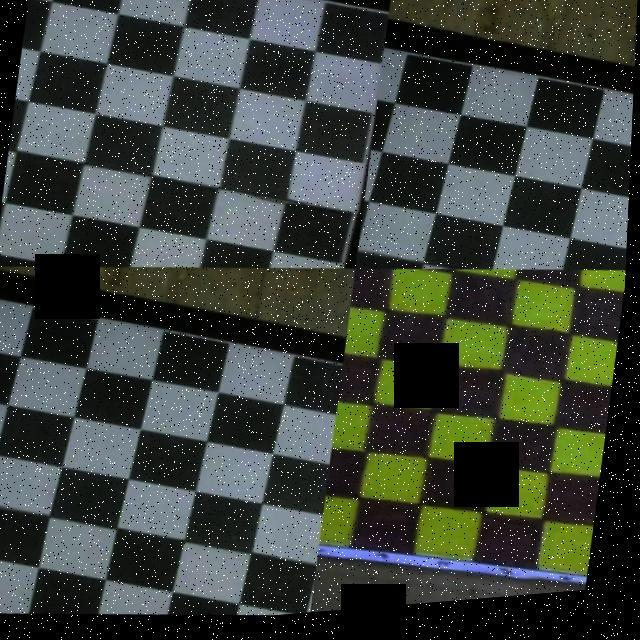chess-table-corners: (381, 13, 388, 24), (338, 391, 342, 400), (626, 281, 628, 285), (588, 597, 590, 601)
